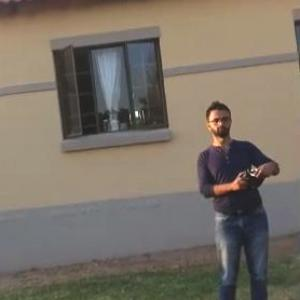follow: (191, 93, 287, 299)
